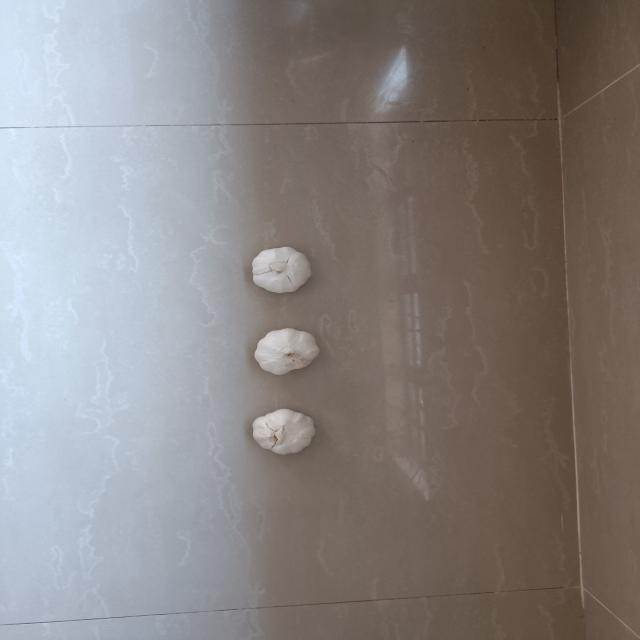garlic: (245, 406, 322, 458), (244, 244, 318, 298), (248, 326, 322, 380)
